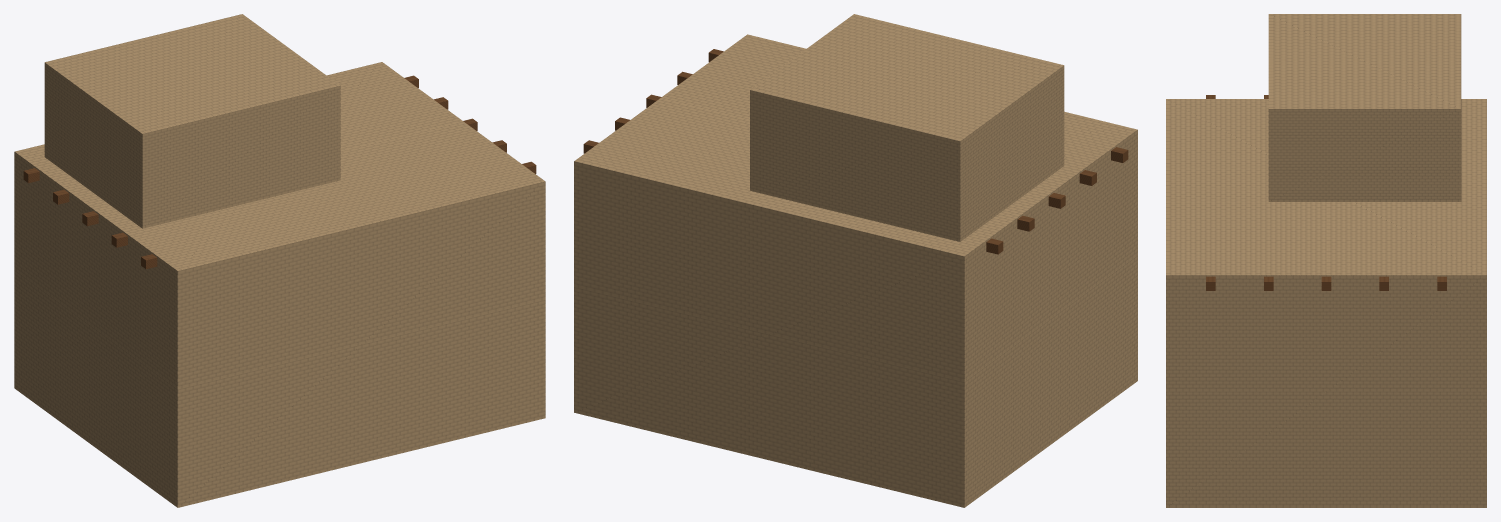
Rendered from meso_house.obj.
3 renders of one model, left to right at view 1: azimuth 30°, elevation 25°; view 2: azimuth 150°, elevation 25°; view 3: azimuth 270°, elevation 25°, orthographic. The views are drawn at different scales.
Size of the model in its own units: 6.9 by 5.6 by 5.
2 materials, 2 textured.
